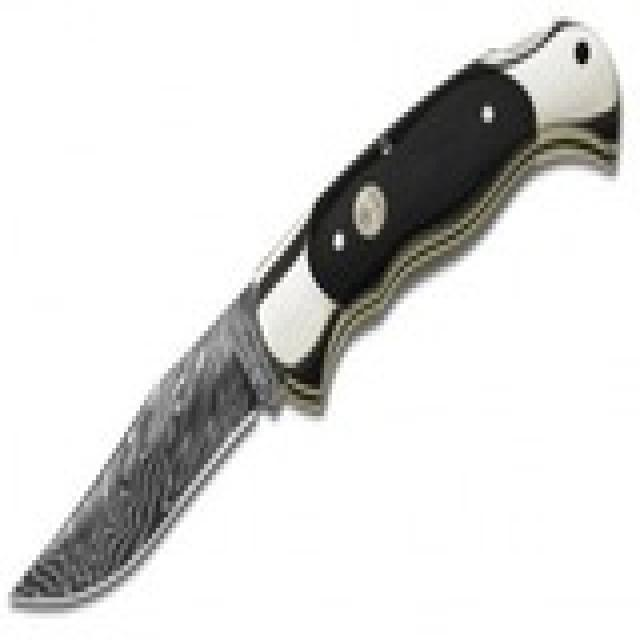Knife: (9, 10, 620, 618)
